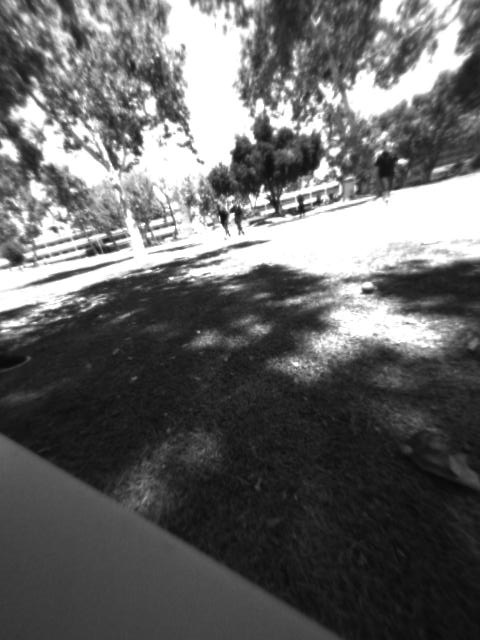dogtoy: (350, 271, 392, 304)
